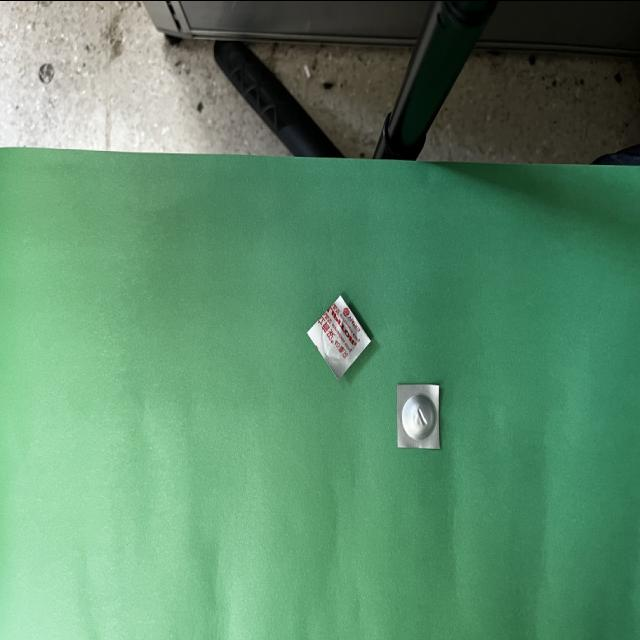Other Objects: (308, 295, 370, 379), (397, 383, 440, 446)
